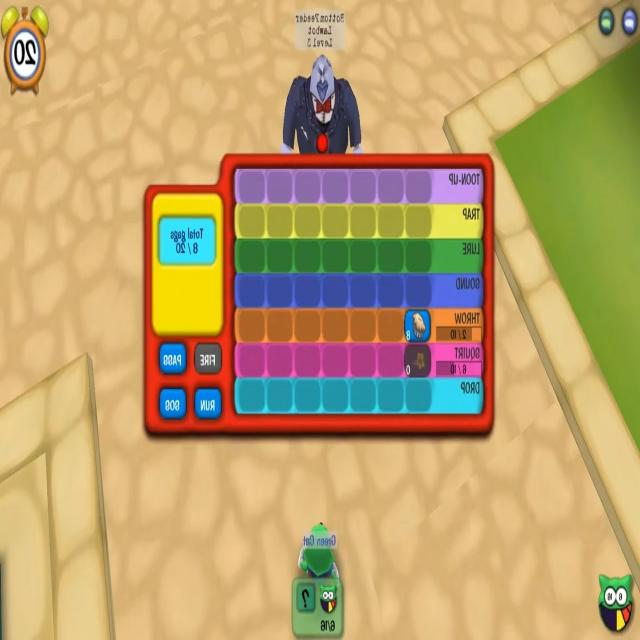bottomfeeder: (276, 5, 361, 156)
